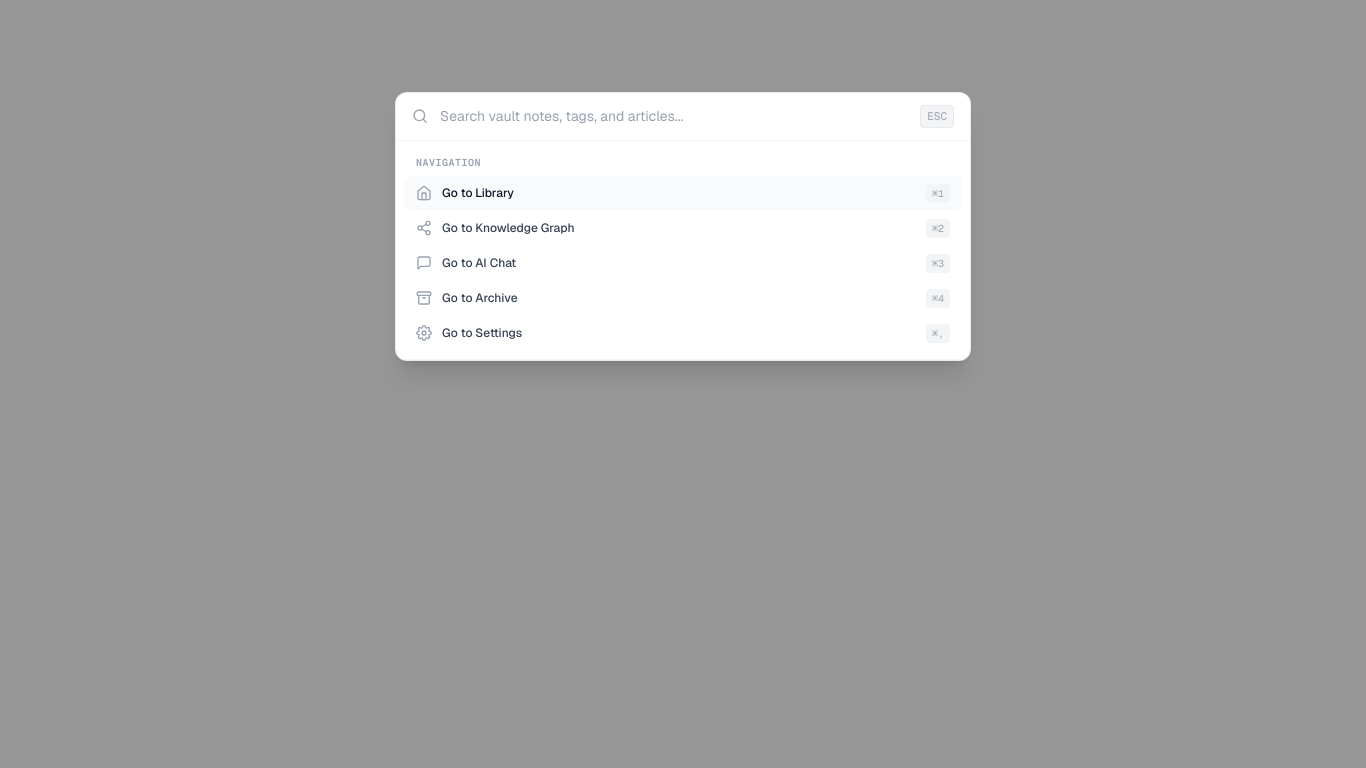
Test: CommandPalette.vue › displays empty state when query matches nothing
Type "xyz123nonexistent" into the field with placeholder "Search vault notes, tags, and articles..." at (674,116), box [440, 106, 908, 126]
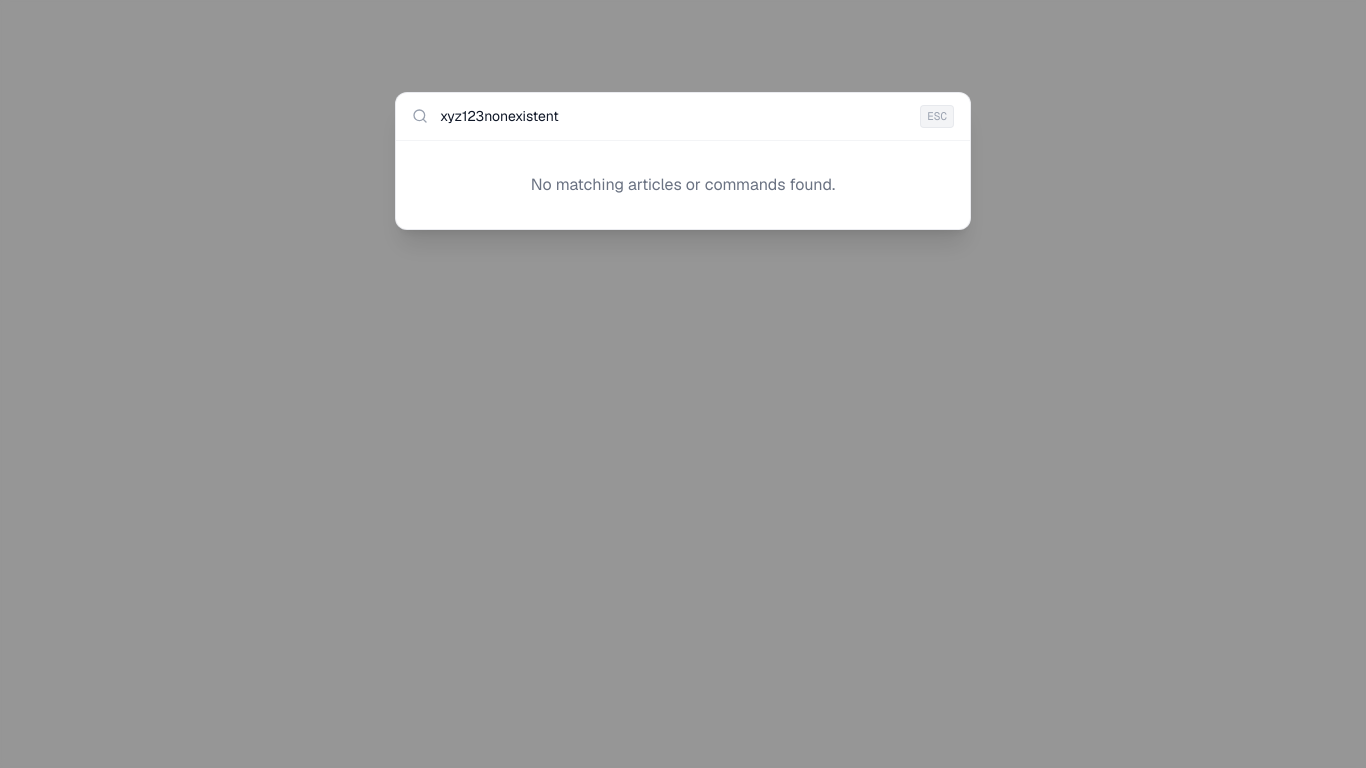
Expected: the text "No matching articles or commands found." is shown, [531, 174, 835, 195]
